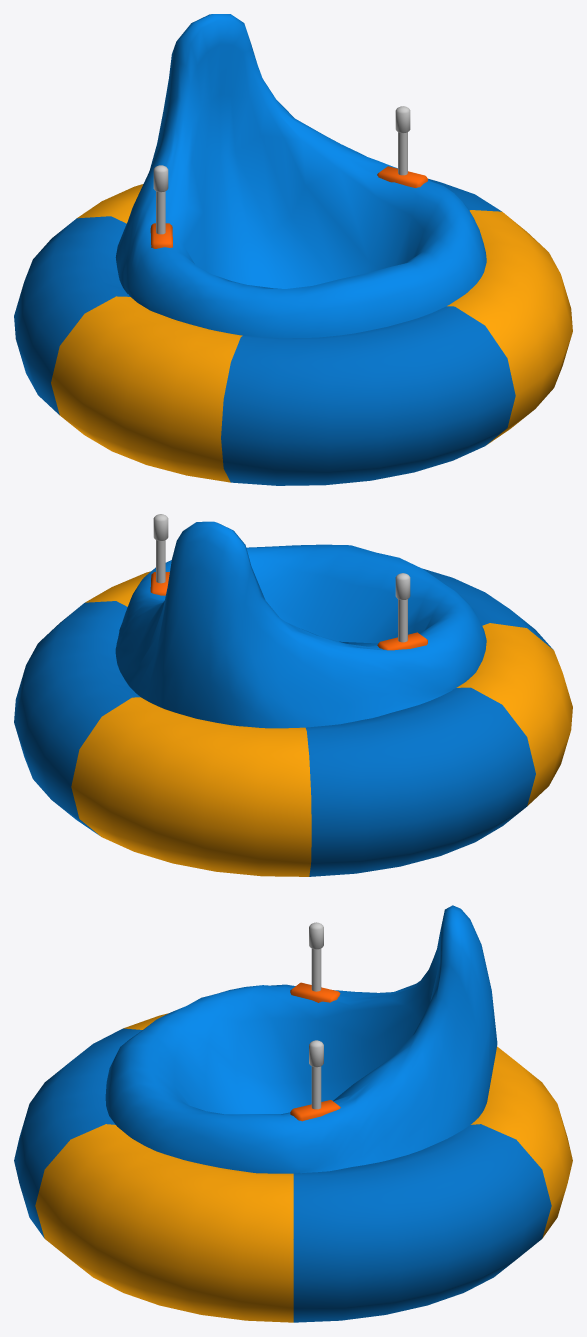
Rendered from Car3.fbx.
3 views of the same model, one above another, from view 1: azimuth 30°, elevation 25°; view 2: azimuth 150°, elevation 25°; view 3: azimuth 270°, elevation 25° (orthographic).
Visible parts, largest first — view 1: Car1, Handle_R, Handle_L; view 2: Car1, Handle_R, Handle_L; view 3: Car1, Handle_L, Handle_R.
Boxes of the visible parts, box(x1,y1,x2,y2) form: Car1: box(14, 14, 572, 485); Handle_R: box(153, 165, 168, 234); Handle_L: box(395, 106, 410, 175); Car1: box(14, 521, 572, 876); Handle_R: box(395, 573, 410, 642); Handle_L: box(153, 514, 168, 583); Car1: box(14, 905, 572, 1322); Handle_L: box(309, 1040, 323, 1109); Handle_R: box(309, 922, 323, 991).
Bounding box in the file's own units: 144 × 90.84 × 144.
